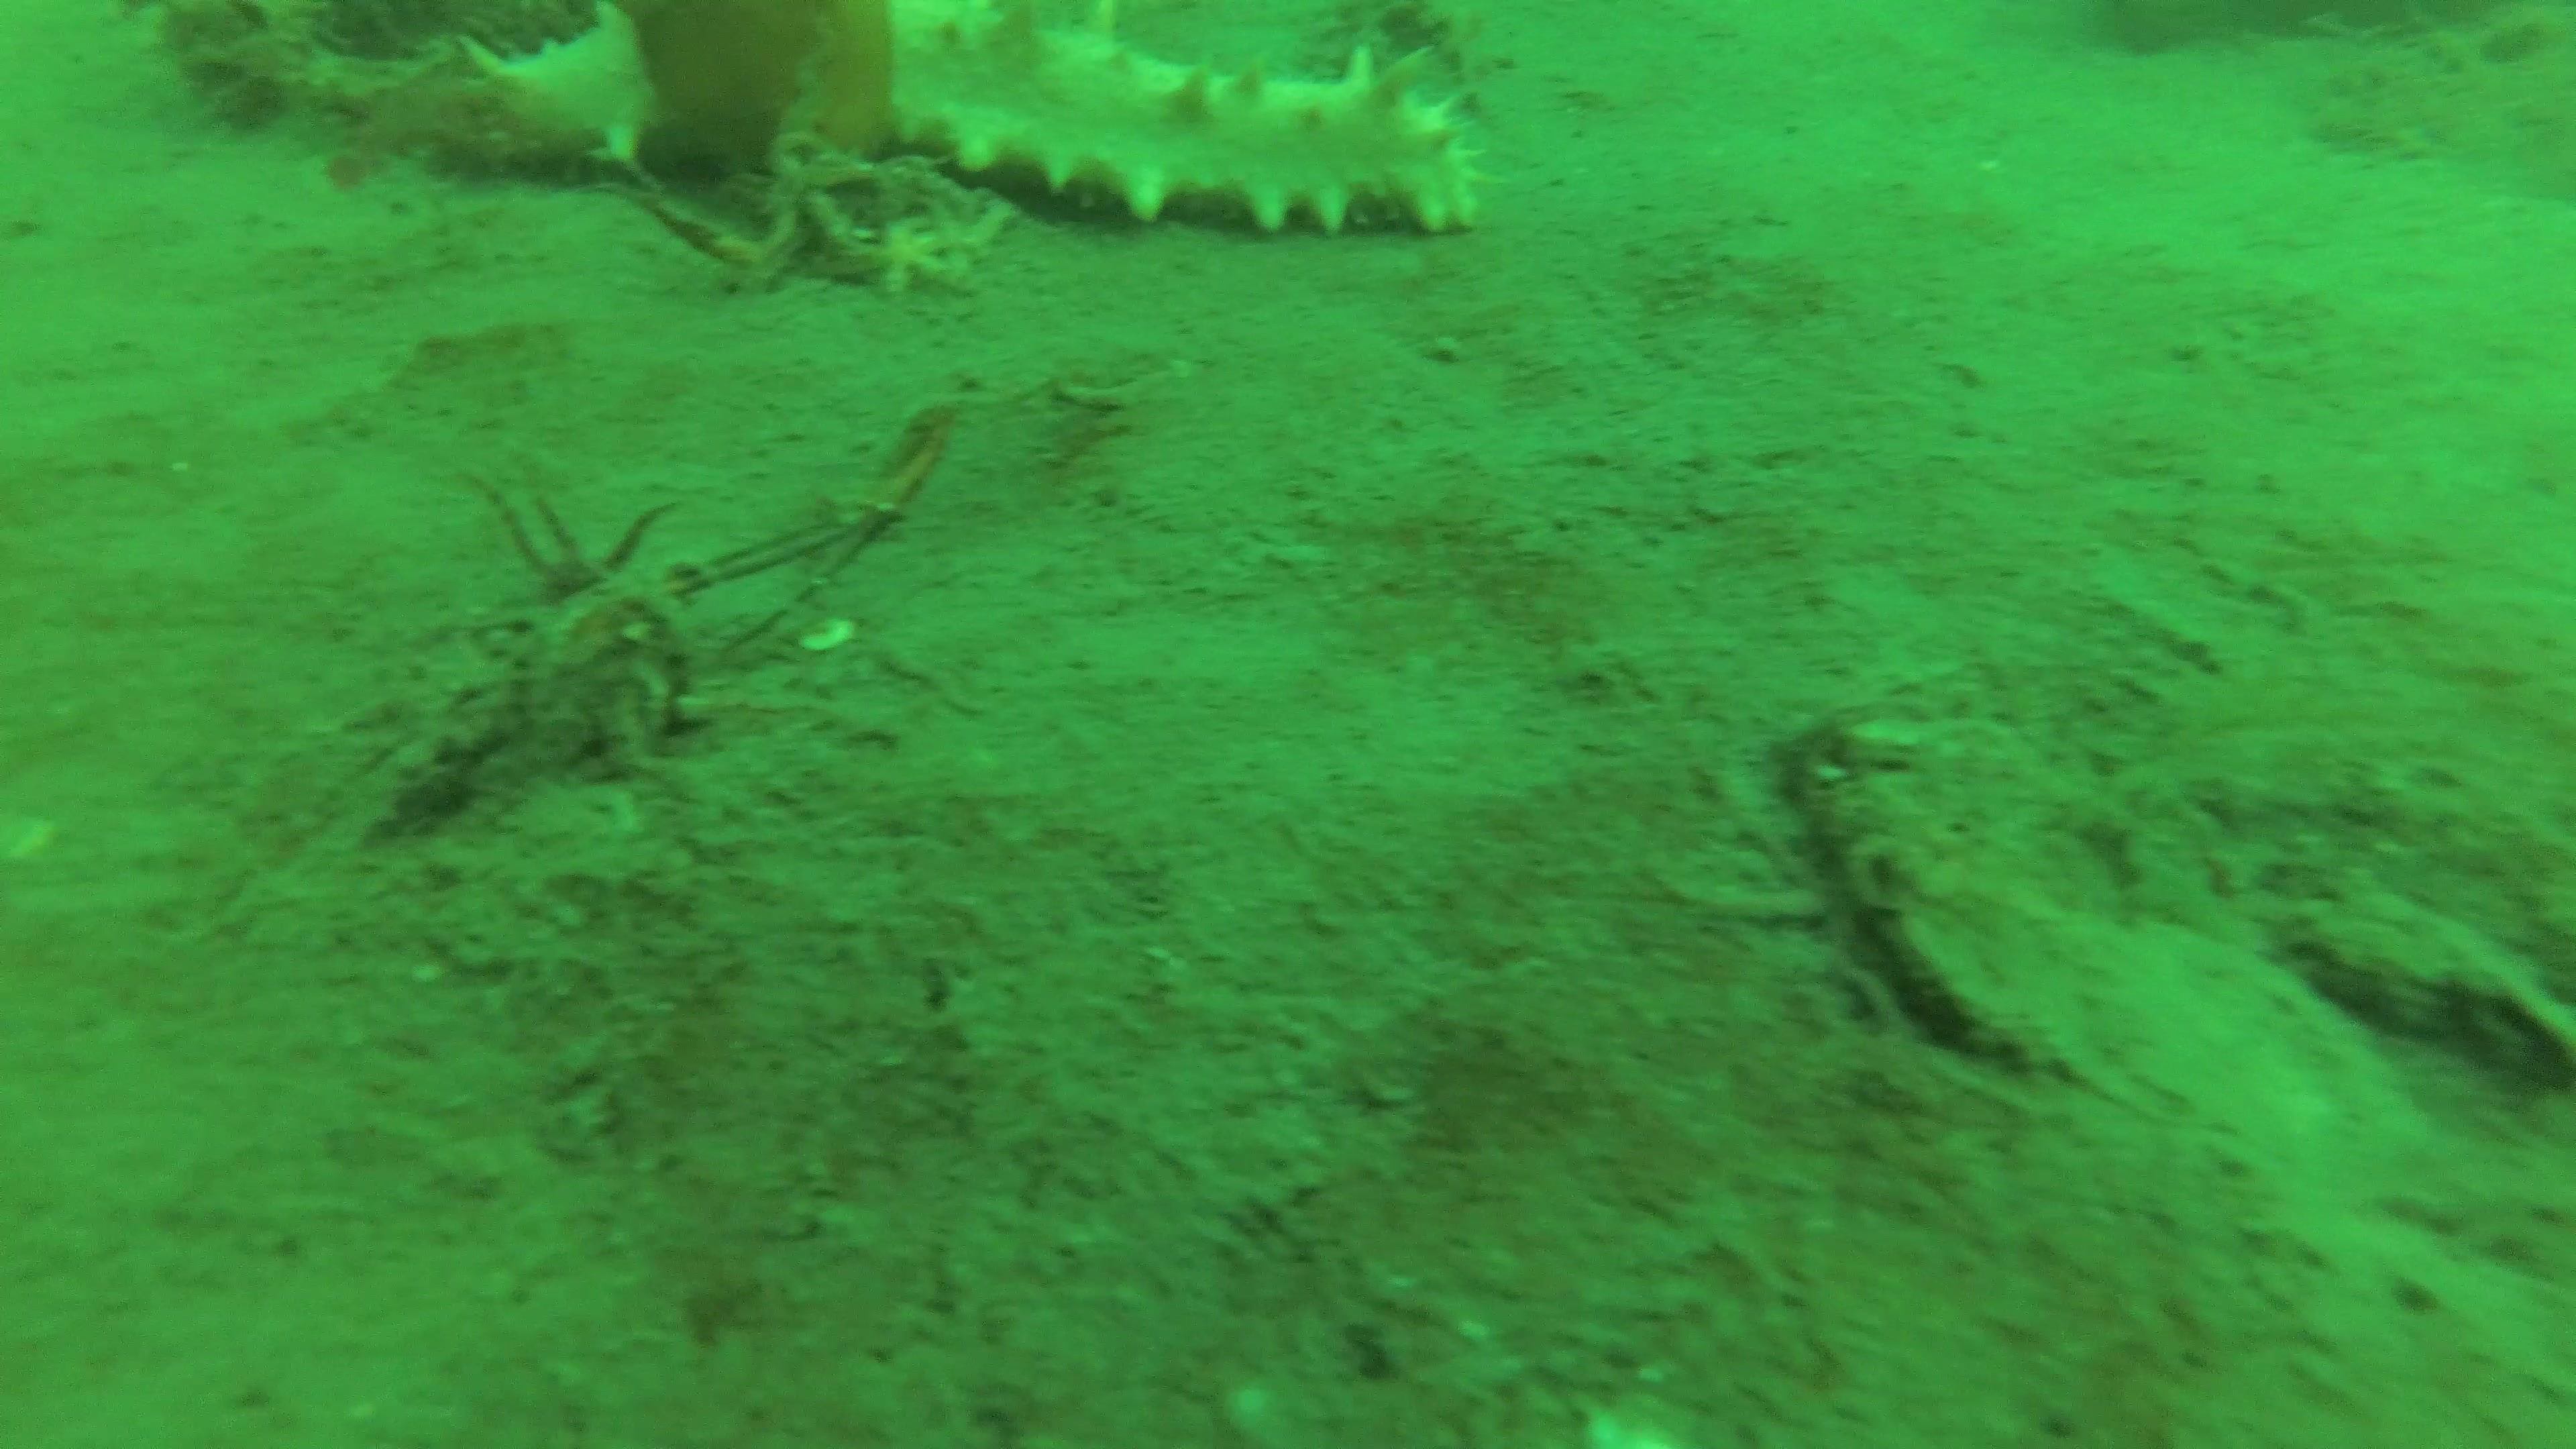holothurian: (329, 0, 1493, 241)
